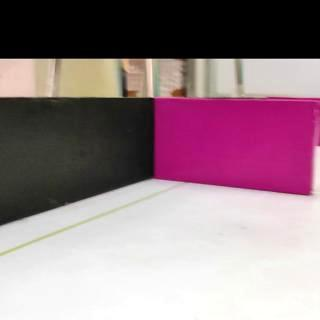xparking: (158, 98, 314, 194)
